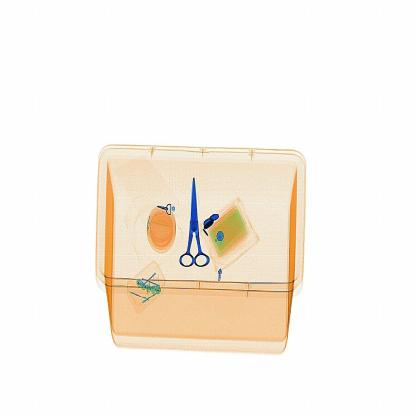gun: (176, 167, 211, 275)
